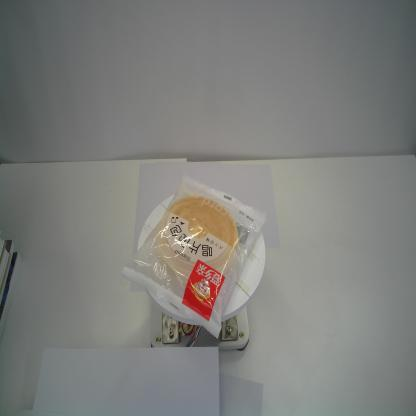Dessert: (120, 174, 267, 340)
